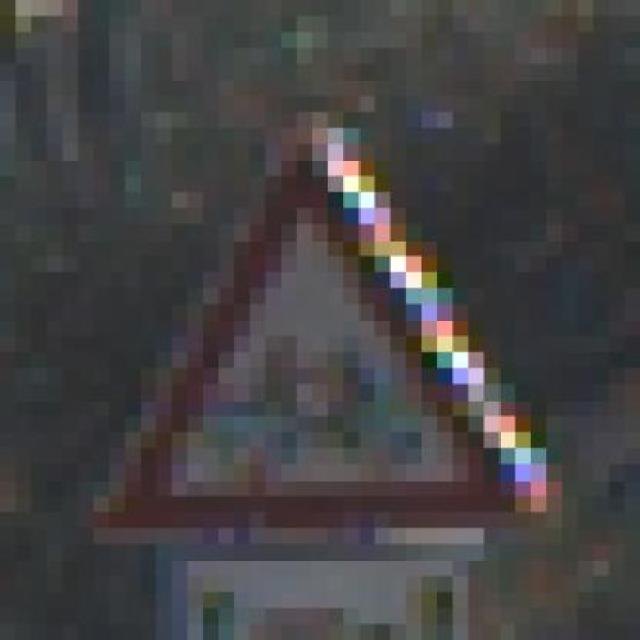CYCLE ROUTE AHEAD WARNING: (78, 95, 562, 560)
